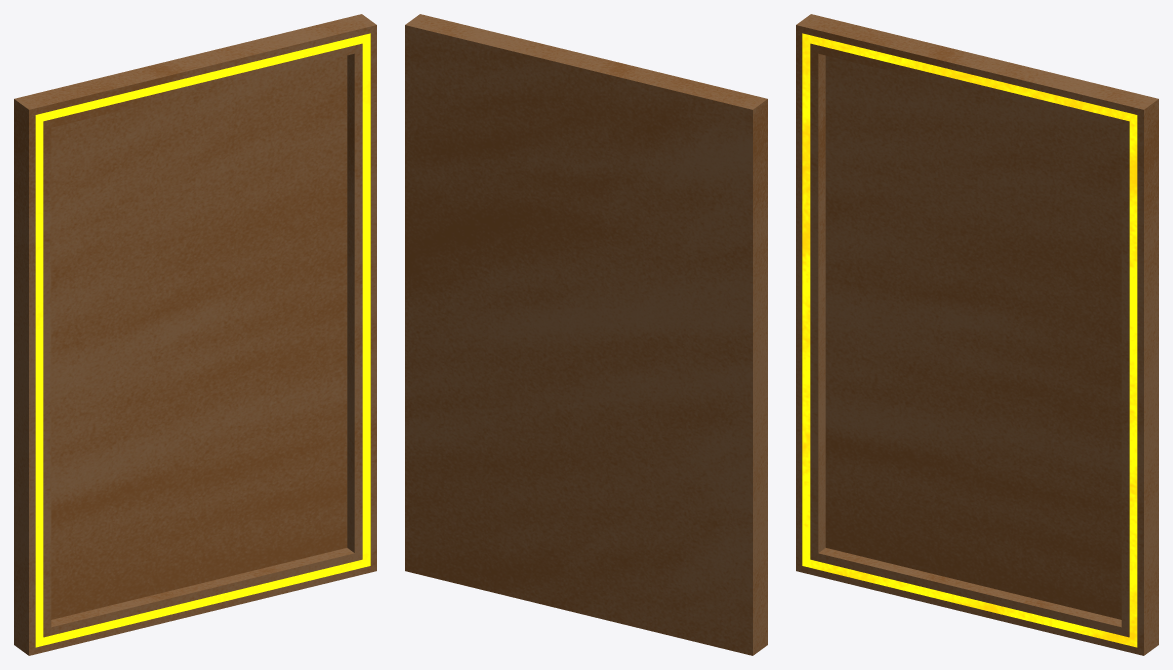
Rendered from CartaAmarela.fbx.
The picture shows the model from 3 angles, left to right: view 1: azimuth 30°, elevation 25°; view 2: azimuth 150°, elevation 25°; view 3: azimuth 330°, elevation 25°; orthographic projection.
Parts seen in each view (by area): view 1: CartaAmarela; view 2: CartaAmarela; view 3: CartaAmarela.
Part boxes in pixels (x1,y1,x2,y2): CartaAmarela: (14, 14, 376, 655); CartaAmarela: (405, 14, 767, 655); CartaAmarela: (796, 14, 1158, 655).
Bounding box in the file's own units: 200 × 300 × 15.
